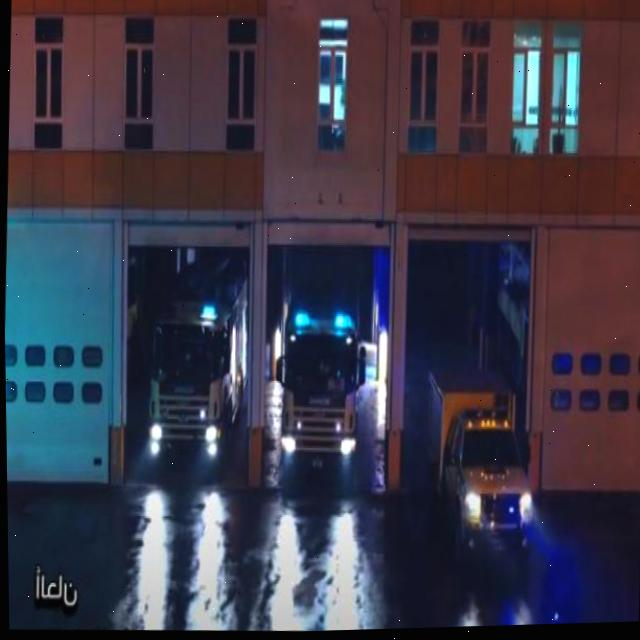emergency: (138, 251, 251, 499), (265, 274, 372, 519)
